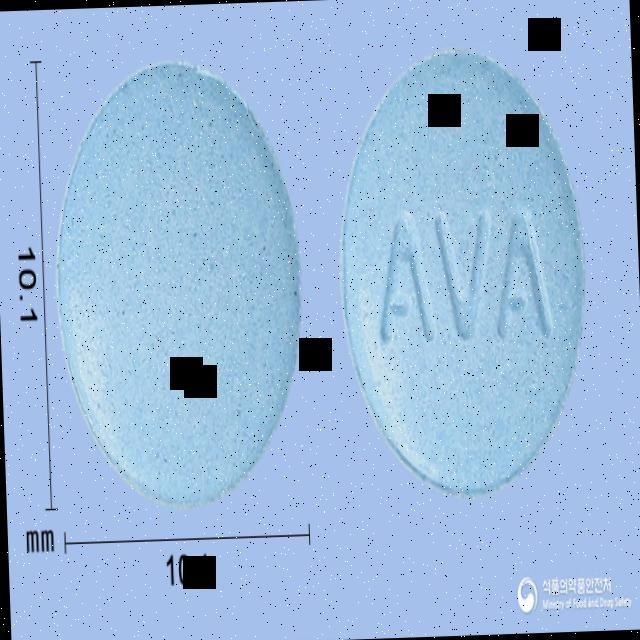Aclova 400mg: (333, 43, 594, 500)
